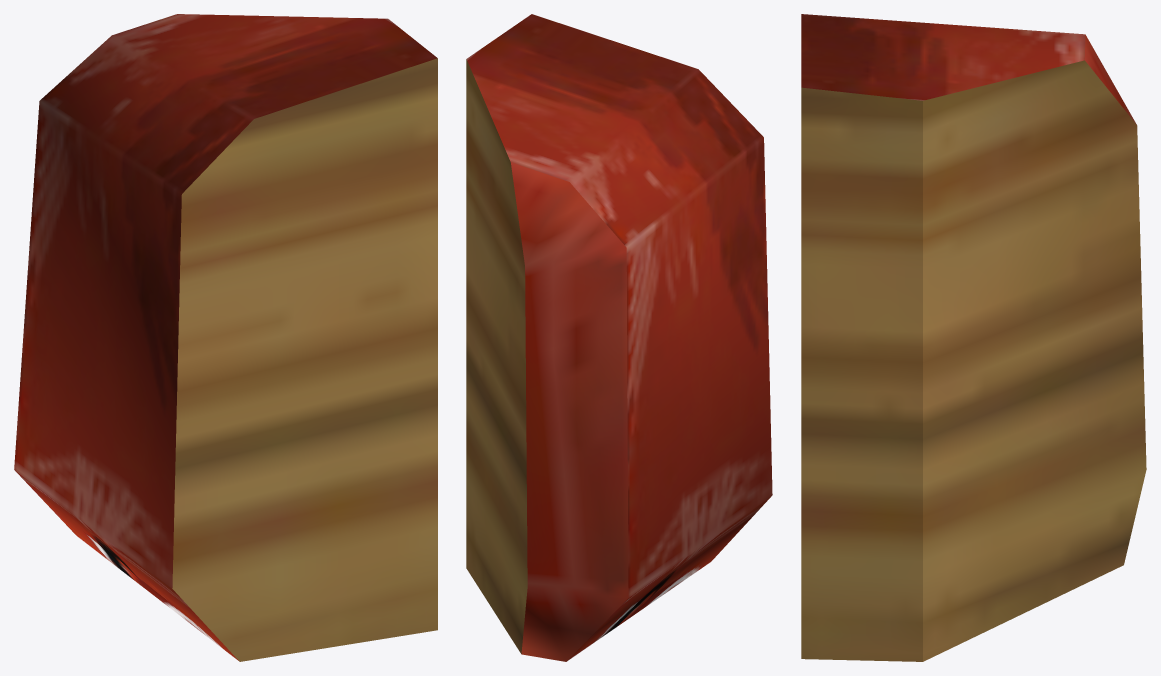
The model's file is Skill_Cowboy_01_Broken_06_e3148ddc__Skill_Cowboy_01_Broken_4a527cb7_c1f257.obj.
The picture shows the model from 3 angles, left to right: view 1: azimuth 30°, elevation 25°; view 2: azimuth 150°, elevation 25°; view 3: azimuth 270°, elevation 25°; orthographic projection. The views are drawn at different scales.
Bounding box in the file's own units: 0.2741 × 0.5417 × 0.2965.
Materials: 1 (1 with a texture image).
